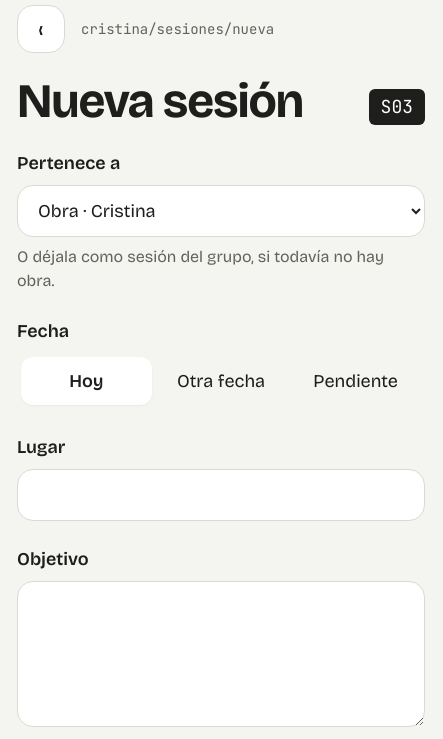
HU-07 · nueva sesión › starts from a project, numbers inside it and lets you move it back to the group
This screenshot has width=443, height=739.
expect the text named "Número 3" is shown: met, box [369, 89, 425, 125]
Select "Sesión del grupo" in the dropdown labelled "Pertenece a" at (221, 211), box [17, 185, 425, 237]
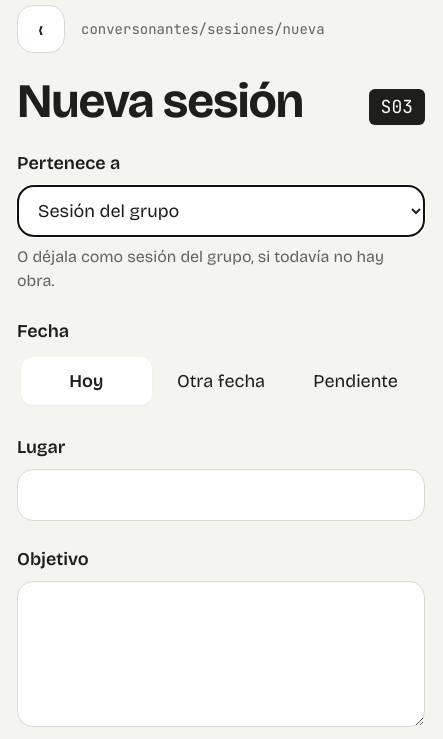
expect the text named "Número 3" is shown: met, box [369, 89, 425, 125]
Select "Obra · Cristina" in the dropdown labelled "Pertenece a" at (221, 211), box [17, 185, 425, 237]
(page scrolled)
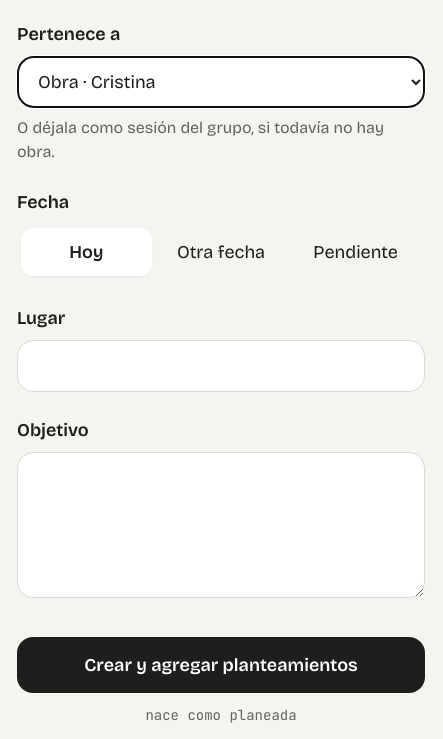
Click the button "Crear y agregar planteamientos" at (221, 665), box [17, 637, 425, 693]
(page scrolled)
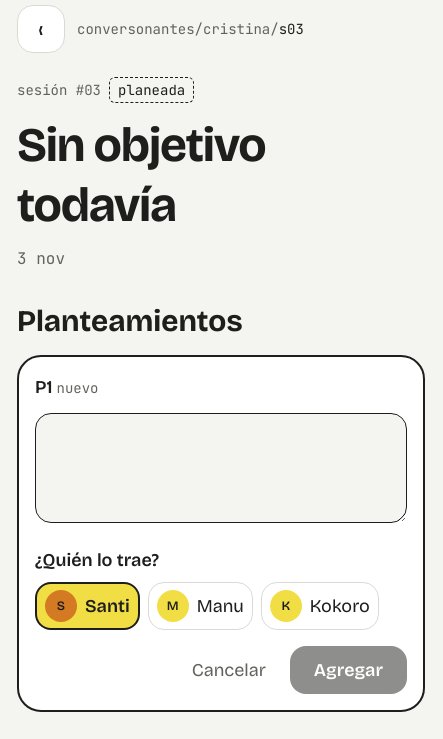
expect the text "sesión #03" is shown: met, box [17, 80, 101, 100]
